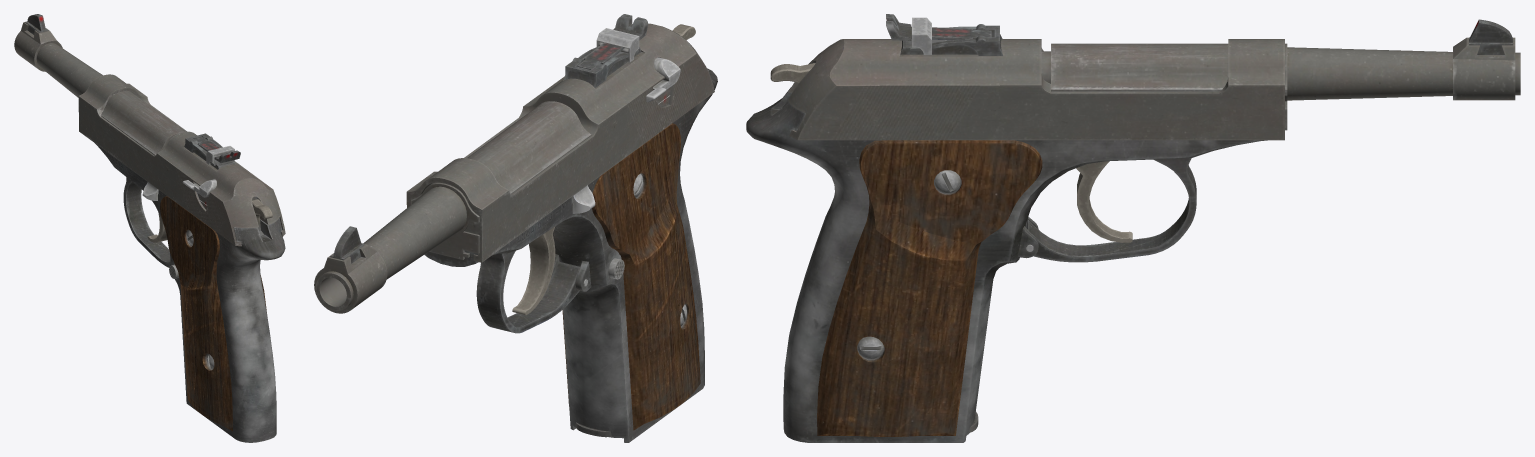
File: p17_pbr.glb
3 views of the same model, side by side, from view 1: azimuth 30°, elevation 25°; view 2: azimuth 150°, elevation 25°; view 3: azimuth 270°, elevation 25° (orthographic). The views are drawn at different scales.
Parts seen in each view (by area): view 1: Body, Slide; view 2: Body, Slide; view 3: Body, Slide.
Boxes of the visible parts, <box> form: Body: <box>14,14,285,442</box>; Slide: <box>78,74,285,246</box>; Body: <box>314,24,717,442</box>; Slide: <box>406,14,714,262</box>; Body: <box>746,19,1520,442</box>; Slide: <box>788,14,1284,140</box>.
Bounding box in the file's own units: 0.0308 × 0.1254 × 0.215.
1 material, 1 textured.
